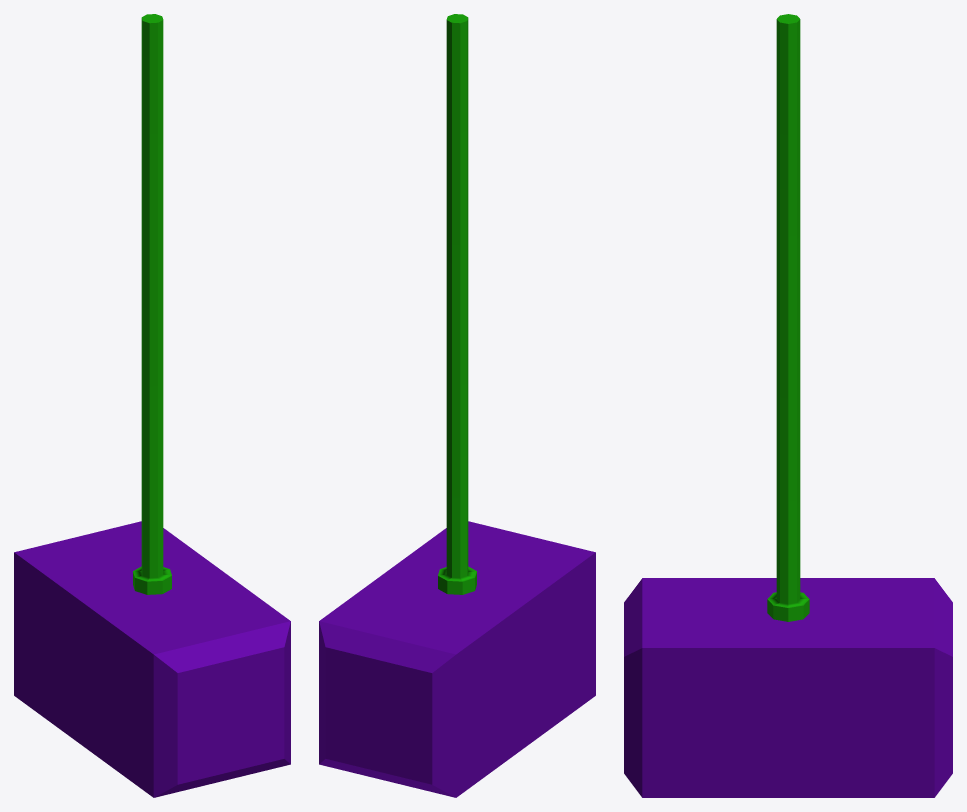
File: SM_Hammer.fbx
3 views of the same model, side by side, from view 1: azimuth 30°, elevation 25°; view 2: azimuth 150°, elevation 25°; view 3: azimuth 270°, elevation 25° (orthographic). The views are drawn at different scales.
Parts seen in each view (by area): view 1: hammer; view 2: hammer; view 3: hammer.
Part boxes in pixels (box(x1,y1,x2,y2)): hammer: box(14, 14, 290, 797); hammer: box(319, 14, 595, 797); hammer: box(624, 14, 952, 797).
Size of the model in its own units: 0.2381 by 1.18 by 0.4732.
